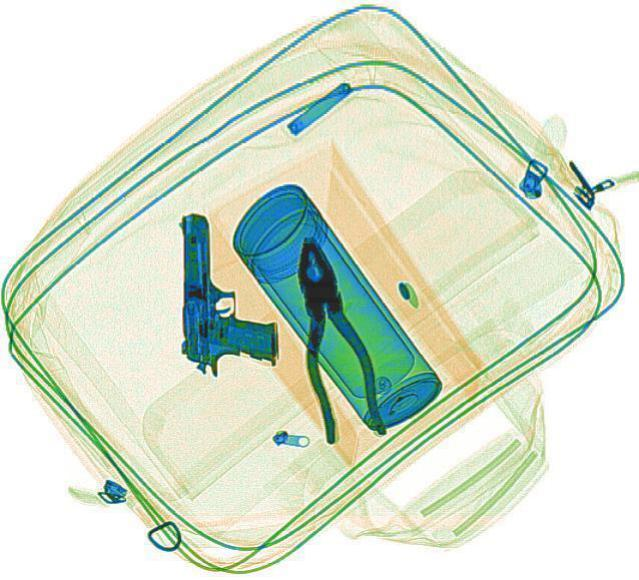Gun: (179, 212, 278, 374)
Pliers: (275, 227, 388, 444)
